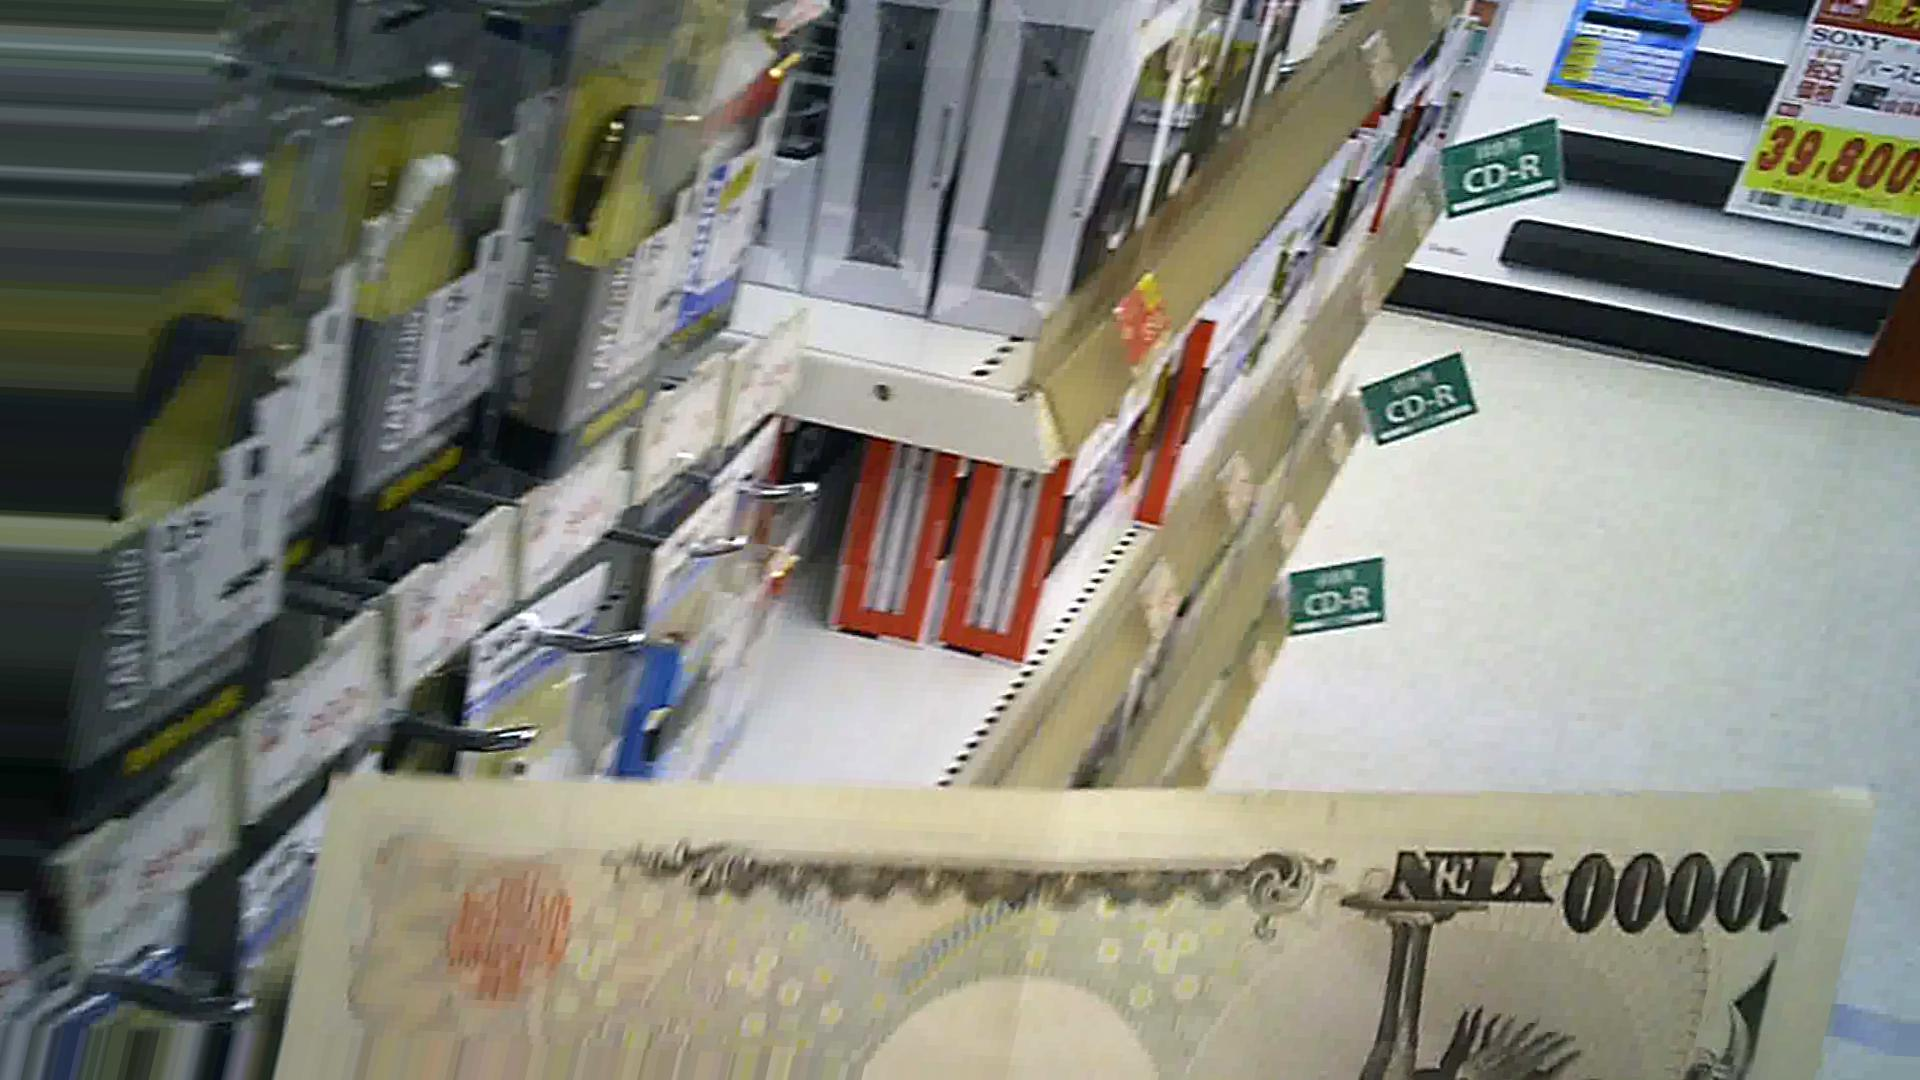10,000 Yen: (301, 731, 1875, 1063)
